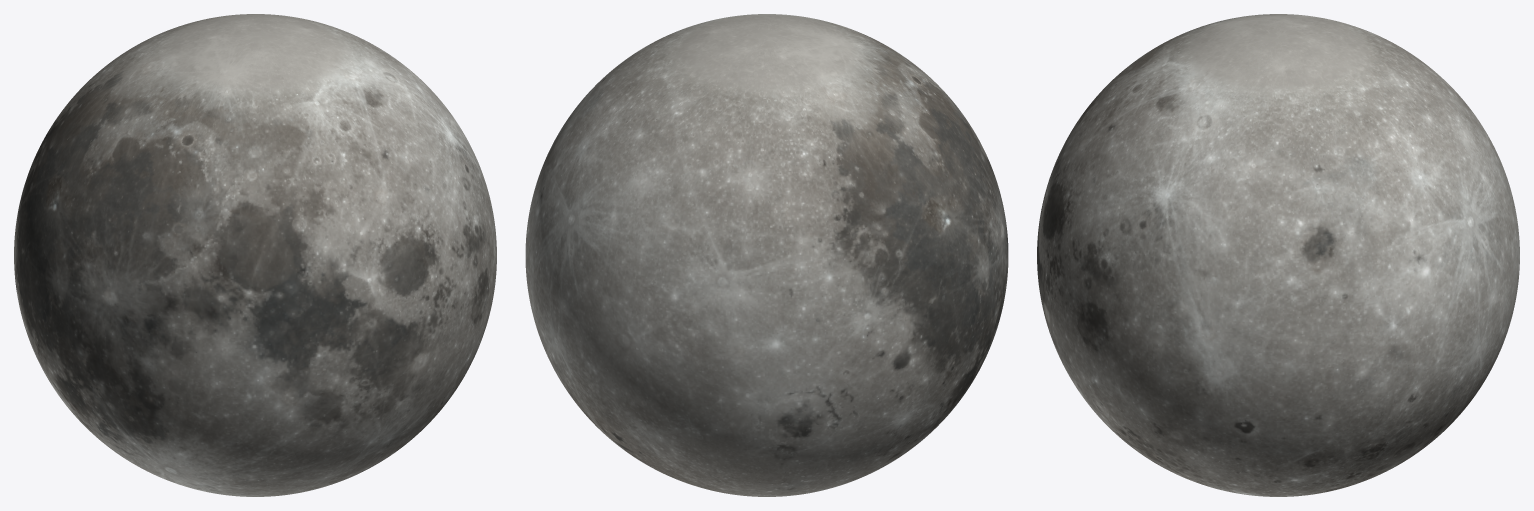
Rendered from bodie moon.fbx.
The picture shows the model from 3 angles, left to right: view 1: azimuth 30°, elevation 25°; view 2: azimuth 150°, elevation 25°; view 3: azimuth 270°, elevation 25°; orthographic projection.
Parts seen in each view (by area): view 1: Sphere; view 2: Sphere; view 3: Sphere.
Part boxes in pixels (<box>): Sphere: <box>14,14,496,496</box>; Sphere: <box>525,14,1008,496</box>; Sphere: <box>1037,14,1519,496</box>.
Size of the model in its own units: 200 by 200 by 200.
